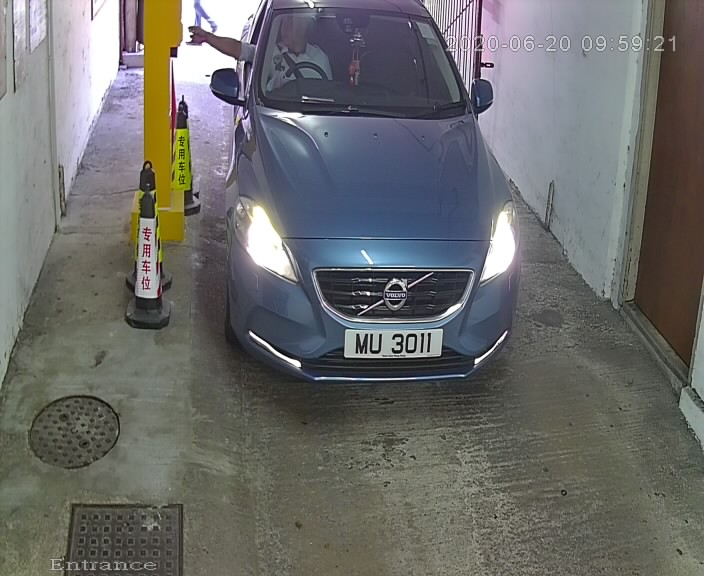privatecar: (192, 3, 551, 394)
